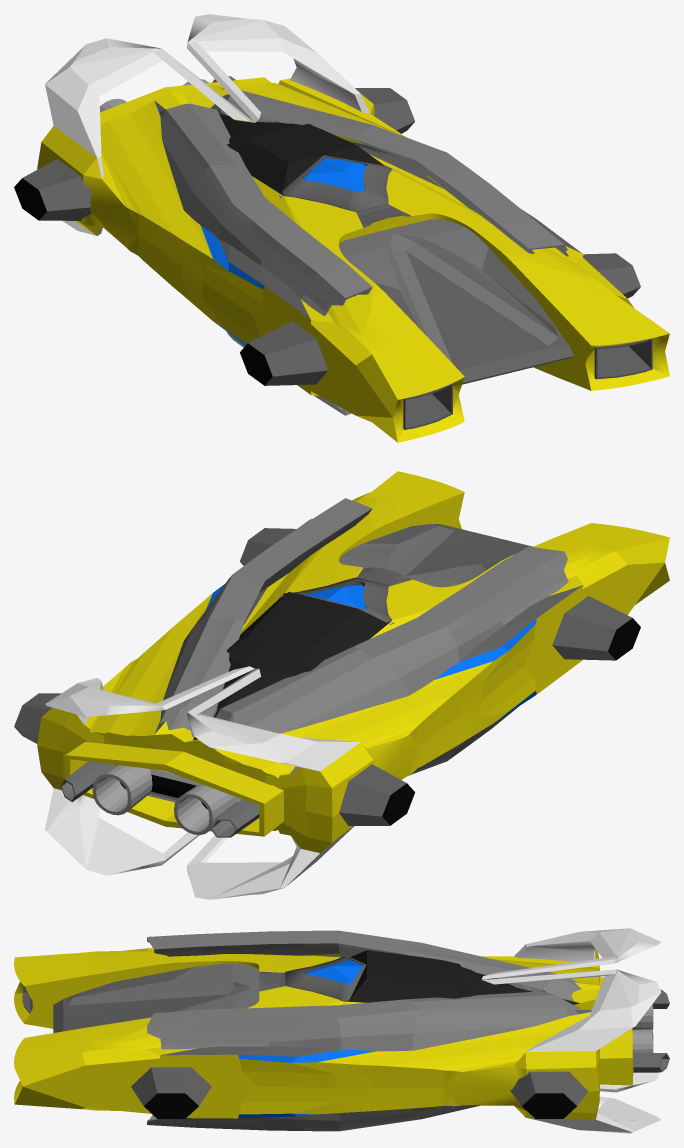
The model's file is voxtekflip.fbx.
3 views of the same model, one above another, from view 1: azimuth 30°, elevation 25°; view 2: azimuth 150°, elevation 25°; view 3: azimuth 270°, elevation 25° (orthographic). The views are drawn at different scales.
Visible parts, largest first — view 1: Cone.001; view 2: Cone.001; view 3: Cone.001.
Part boxes in pixels (x1,y1,x2,y2): Cone.001: (14, 14, 669, 442); Cone.001: (14, 471, 669, 899); Cone.001: (14, 928, 669, 1133).
Bounding box in the file's own units: 577 × 242 × 1063.
